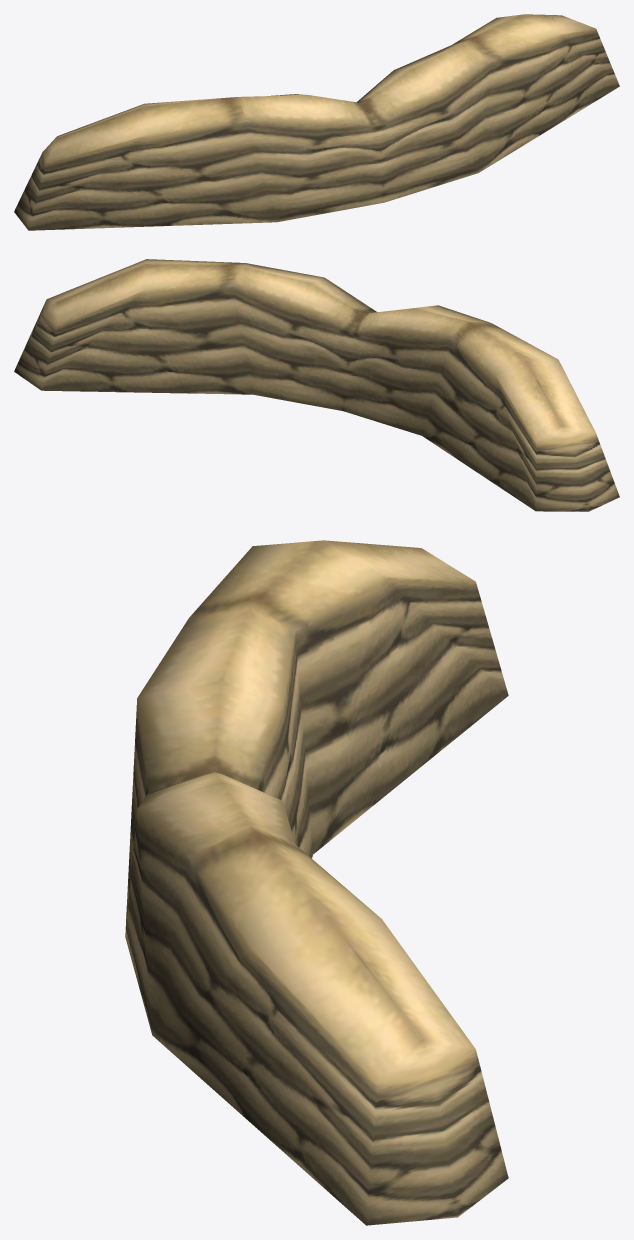
File: SandBags2_Med_Curved.glb
3 views of the same model, one above another, from view 1: azimuth 30°, elevation 25°; view 2: azimuth 150°, elevation 25°; view 3: azimuth 270°, elevation 25° (orthographic). The views are drawn at different scales.
Visible parts, largest first — view 1: SANDBAGS2_MED_CURVED; view 2: SANDBAGS2_MED_CURVED; view 3: SANDBAGS2_MED_CURVED.
Boxes of the visible parts, x1,y1,x2,y2 form: SANDBAGS2_MED_CURVED: (14, 14, 619, 230); SANDBAGS2_MED_CURVED: (14, 259, 619, 511); SANDBAGS2_MED_CURVED: (125, 540, 508, 1225).
Size of the model in its own units: 4.25 by 0.758 by 1.19.
Materials: 1 (1 with a texture image).
